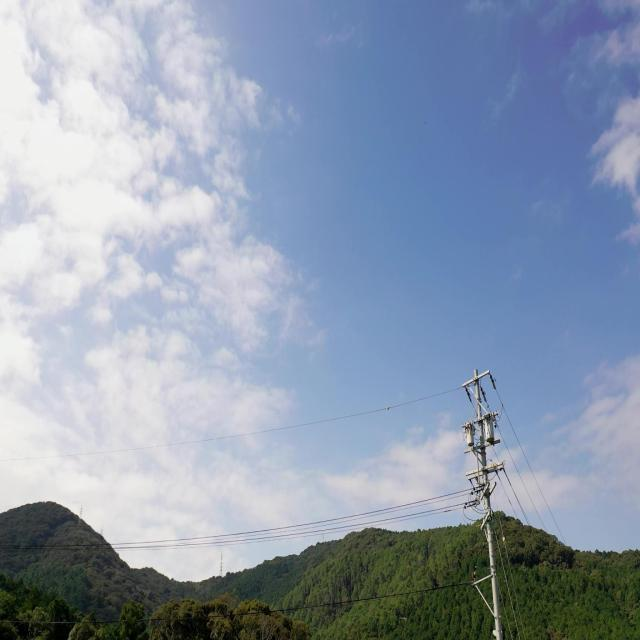Birds: (472, 564, 478, 582)
